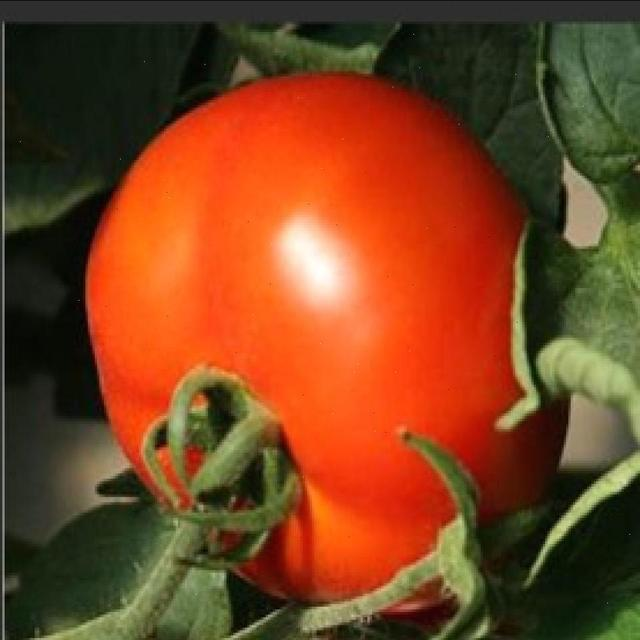Healthy Fruit: (51, 60, 352, 402)
